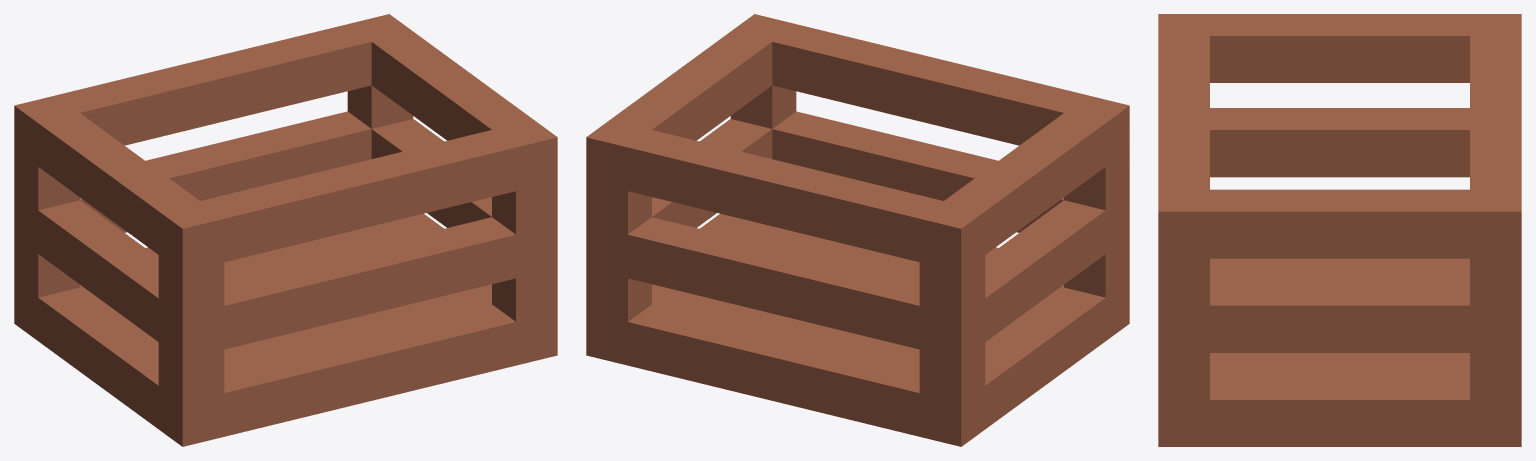
The model's file is box_empty.vox.obj.
3 renders of one model, left to right at view 1: azimuth 30°, elevation 25°; view 2: azimuth 150°, elevation 25°; view 3: azimuth 270°, elevation 25°, orthographic. The views are drawn at different scales.
Size of the model in its own units: 0.9 by 0.5 by 0.7.
1 material, 1 textured.
